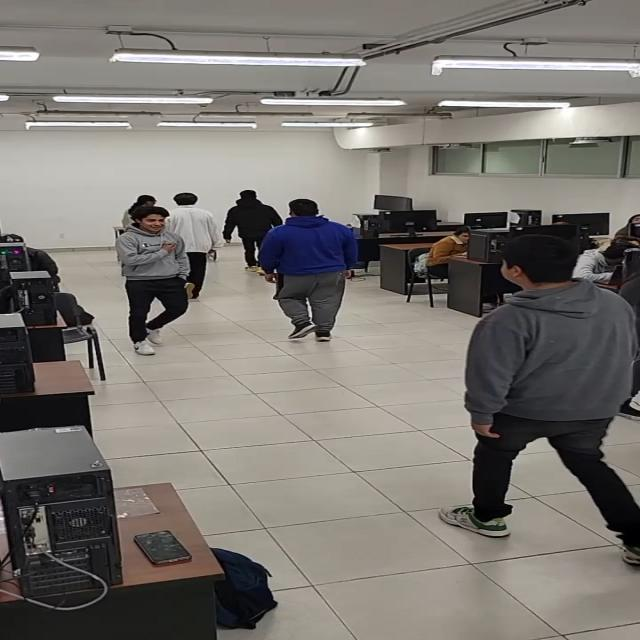Persona: (475, 240, 640, 547), (270, 198, 363, 343), (120, 208, 192, 343), (168, 195, 230, 267), (226, 192, 286, 249), (116, 186, 159, 212)
